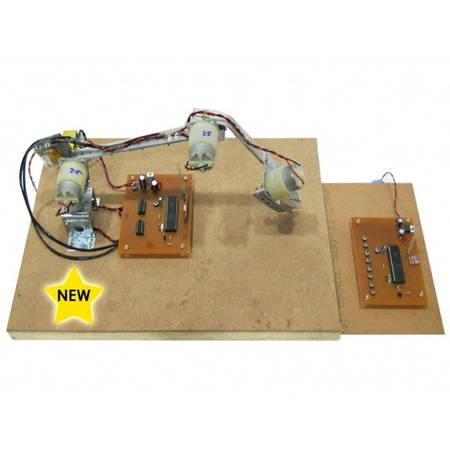capacitor: (139, 175, 146, 190), (151, 180, 159, 192), (397, 218, 403, 229), (399, 228, 404, 236), (158, 197, 162, 205)
